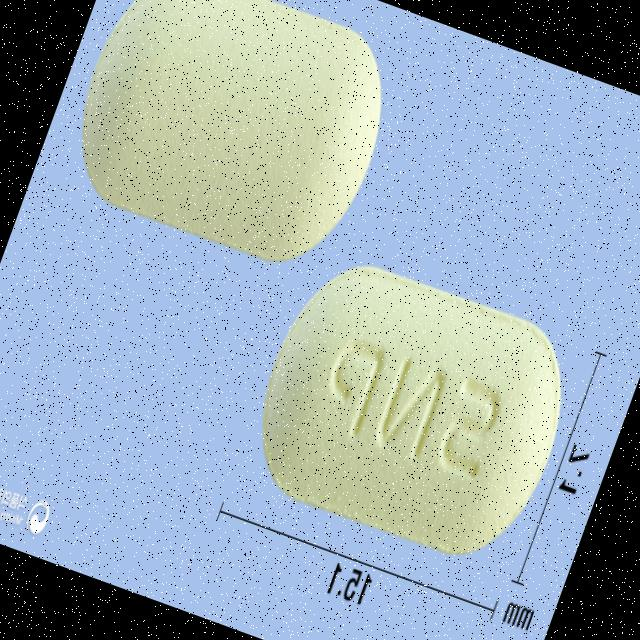A Progen Clarithromycin Tab: (230, 242, 590, 576), (52, 0, 410, 283)
